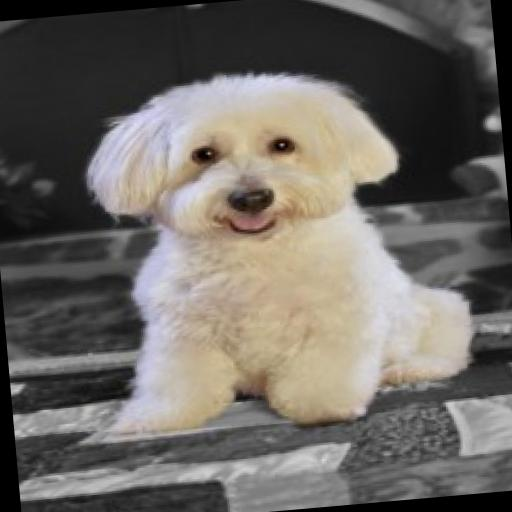dog: (67, 44, 492, 454)
